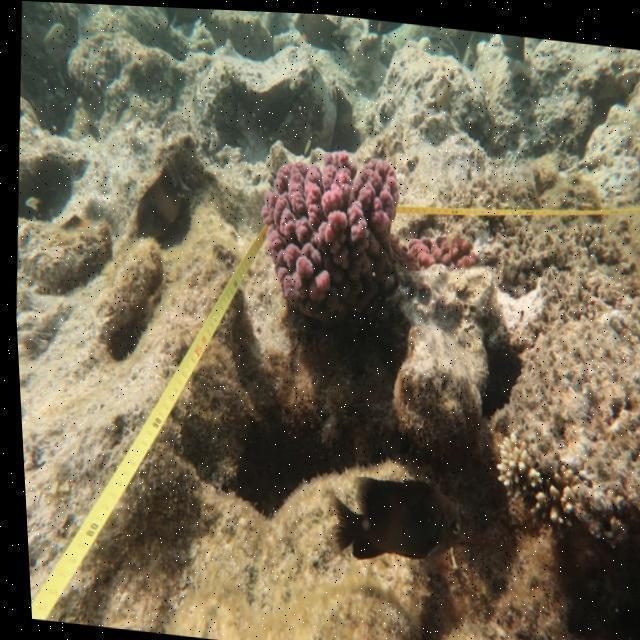Healthy Coral: (251, 132, 420, 330)
